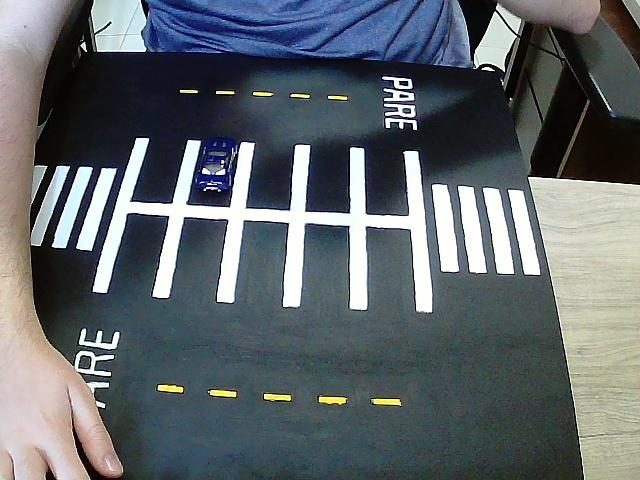Carro: (196, 137, 236, 193)
